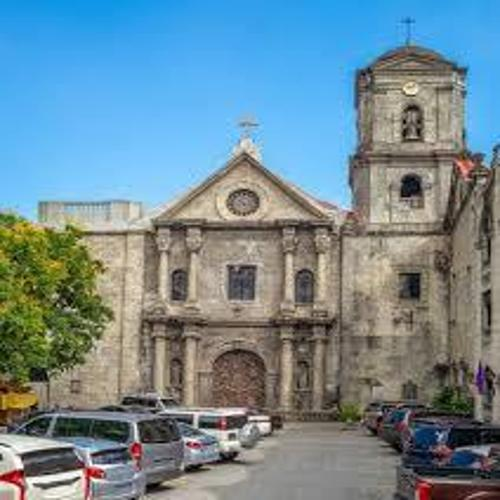San Agustin Church: (135, 6, 474, 432)
